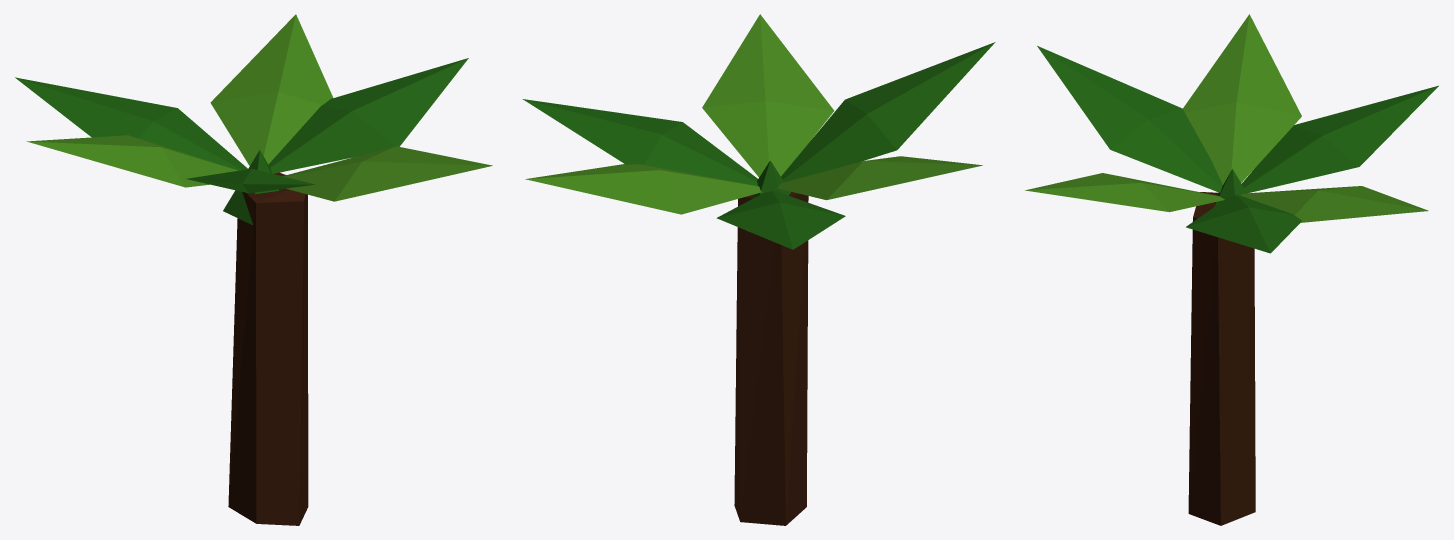
Rendered from world_tree_cycad_s.fbx.
3 views of the same model, side by side, from view 1: azimuth 30°, elevation 25°; view 2: azimuth 150°, elevation 25°; view 3: azimuth 270°, elevation 25° (orthographic). The views are drawn at different scales.
Parts seen in each view (by area): view 1: world_tree_cycad_s; view 2: world_tree_cycad_s; view 3: world_tree_cycad_s.
Part boxes in pixels (x1=…): world_tree_cycad_s: x1=15, y1=14, x2=492, y2=525; world_tree_cycad_s: x1=522, y1=14, x2=995, y2=525; world_tree_cycad_s: x1=1025, y1=14, x2=1438, y2=525.
Bounding box in the file's own units: 572 × 524 × 486.
